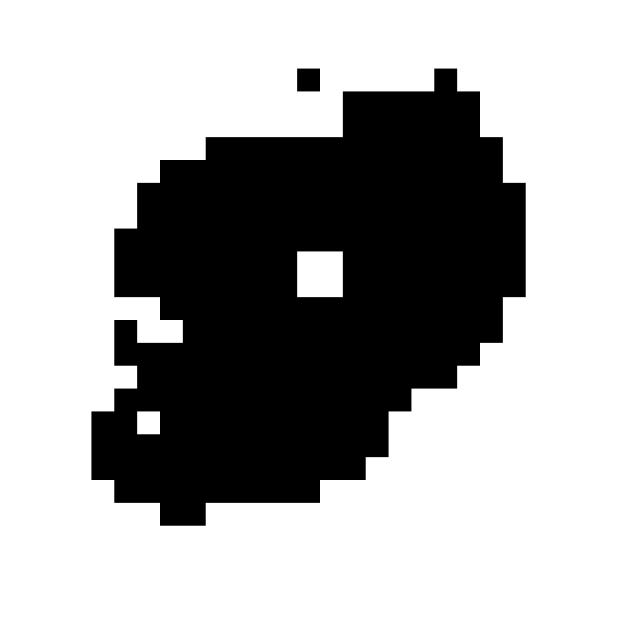0 -zero-: (73, 48, 543, 536)
